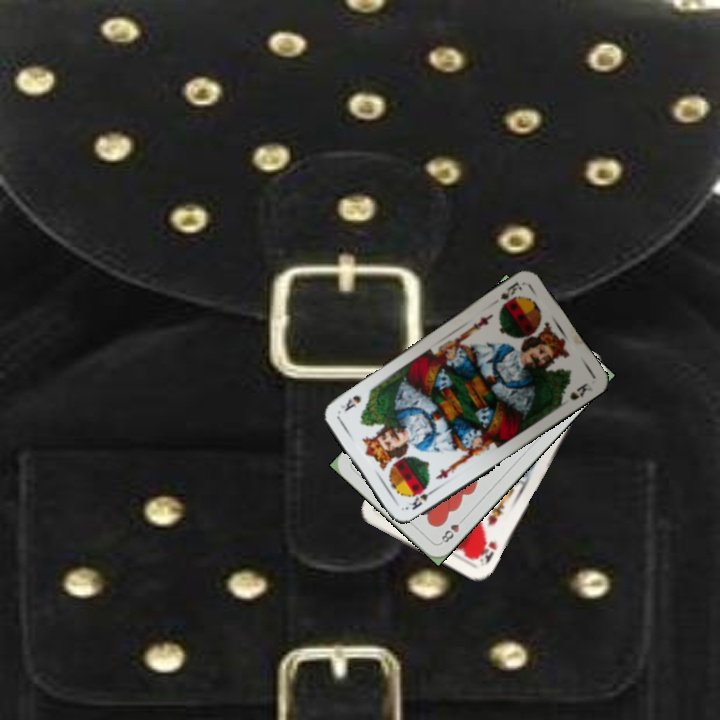H8: (436, 513, 468, 546)
HK: (473, 537, 499, 569)
SK: (405, 485, 438, 513), (496, 278, 525, 303)
